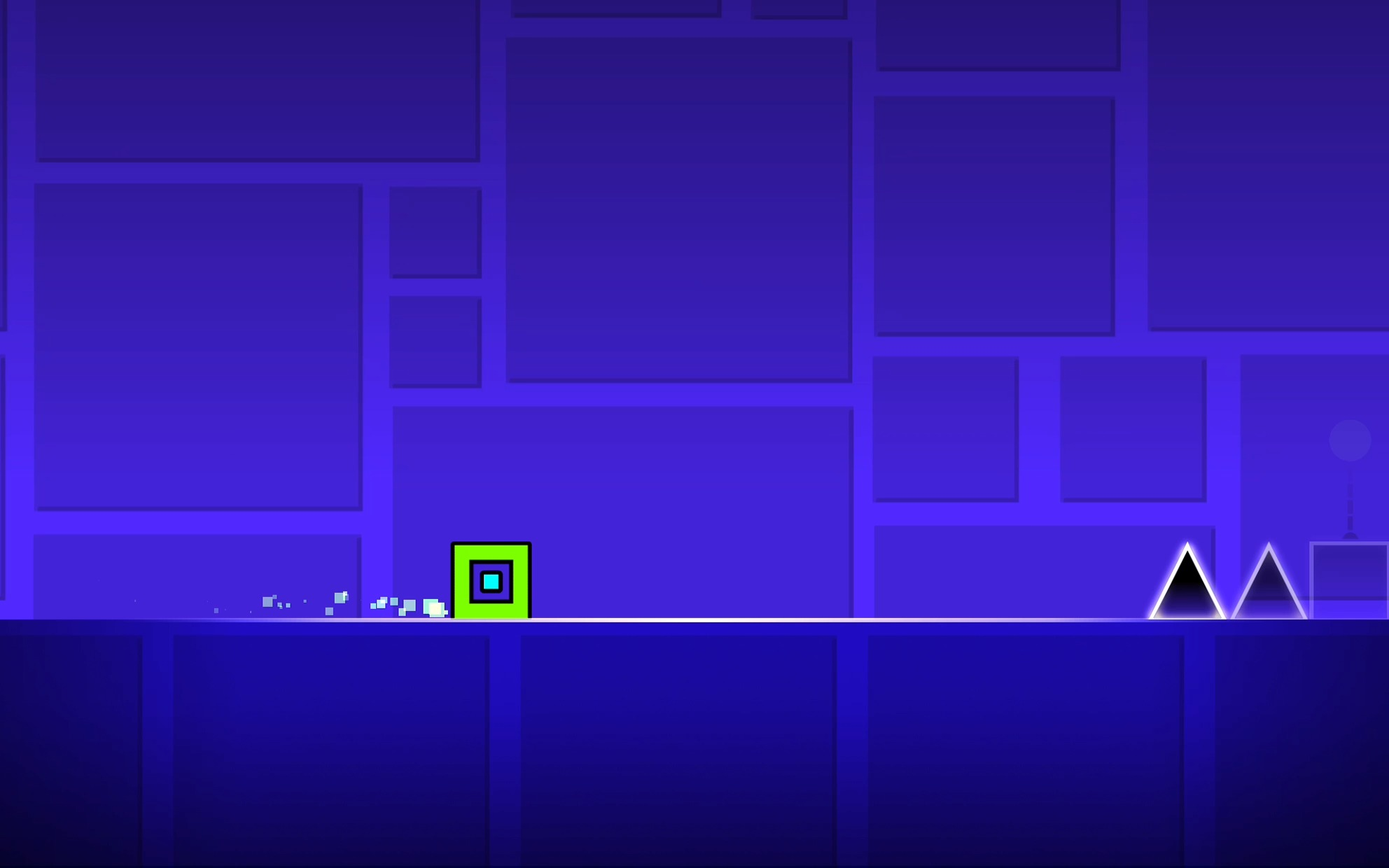Block: (1306, 541, 1388, 619)
Player: (448, 542, 533, 619)
Spike: (1150, 543, 1226, 619), (1231, 544, 1306, 619)
